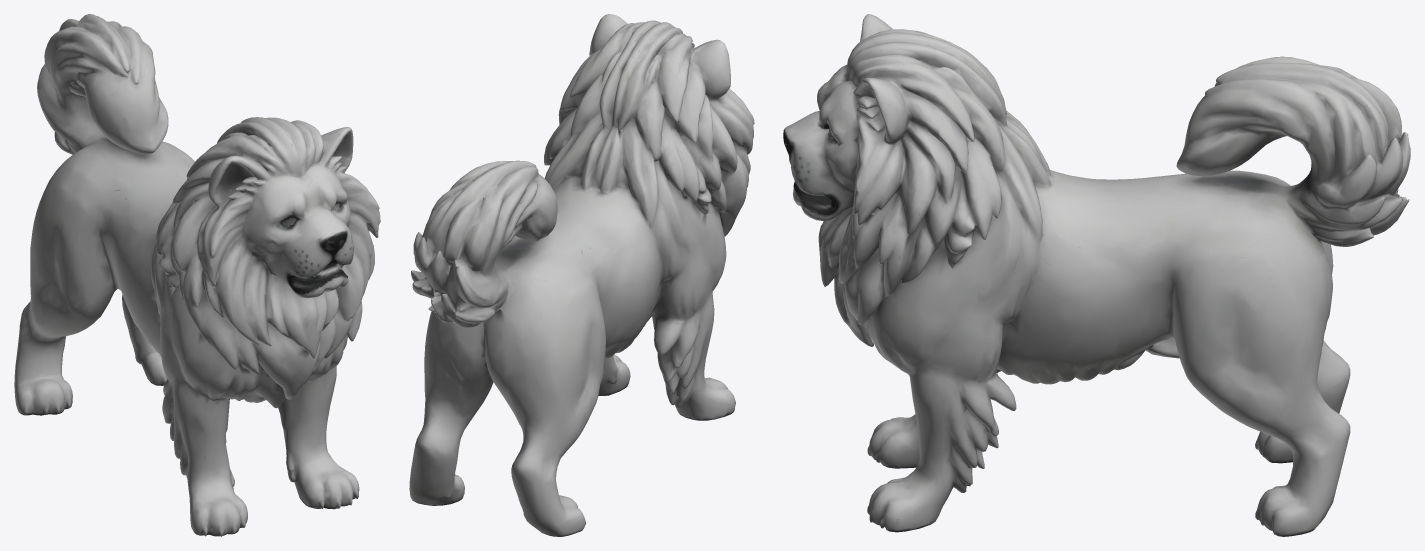
Rendered from detail_14.glb.
3 views of the same model, side by side, from view 1: azimuth 30°, elevation 25°; view 2: azimuth 150°, elevation 25°; view 3: azimuth 270°, elevation 25° (orthographic). The views are drawn at different scales.
Size of the model in its own units: 0.4 by 0.7962 by 0.9979.
1 material, 1 textured.
